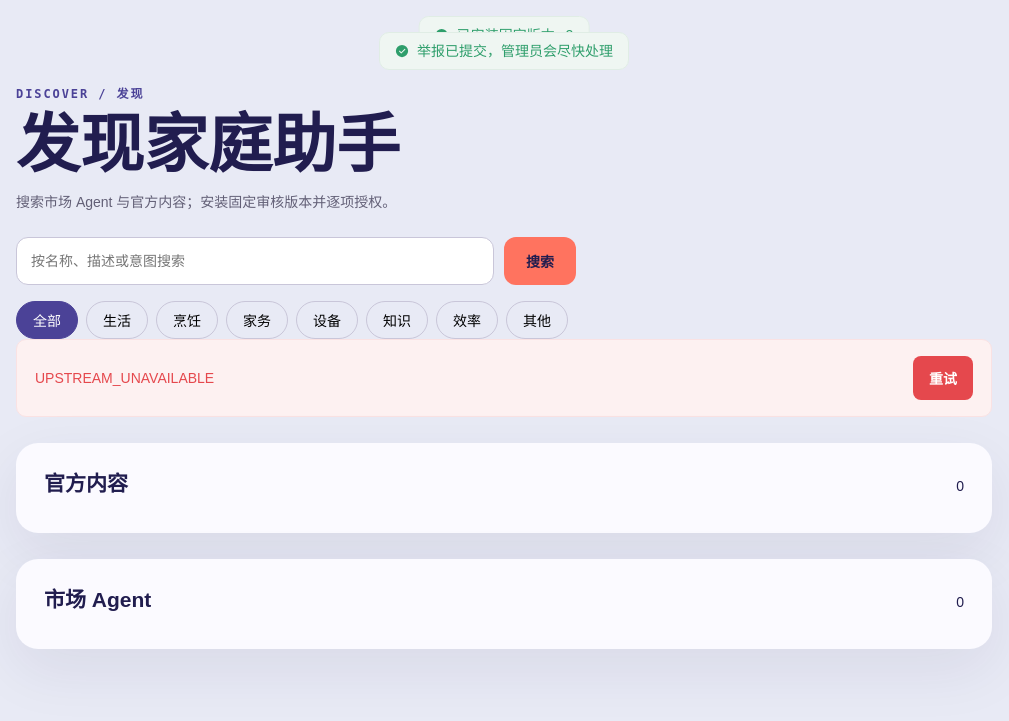
Test: Discover 市场发现页 › 列表接口失败时显示可重试的错误块，而不是「没有匹配的助手」
Expected: the message "UPSTREAM_UNAVAILABLE 重试" is shown, [16,339,992,417]
Expected: the message with test id "page-error" shows "UPSTREAM_UNAVAILABLE", [35,370,214,386]
Click the button "重试" at (943, 378), box [913,356,973,400]
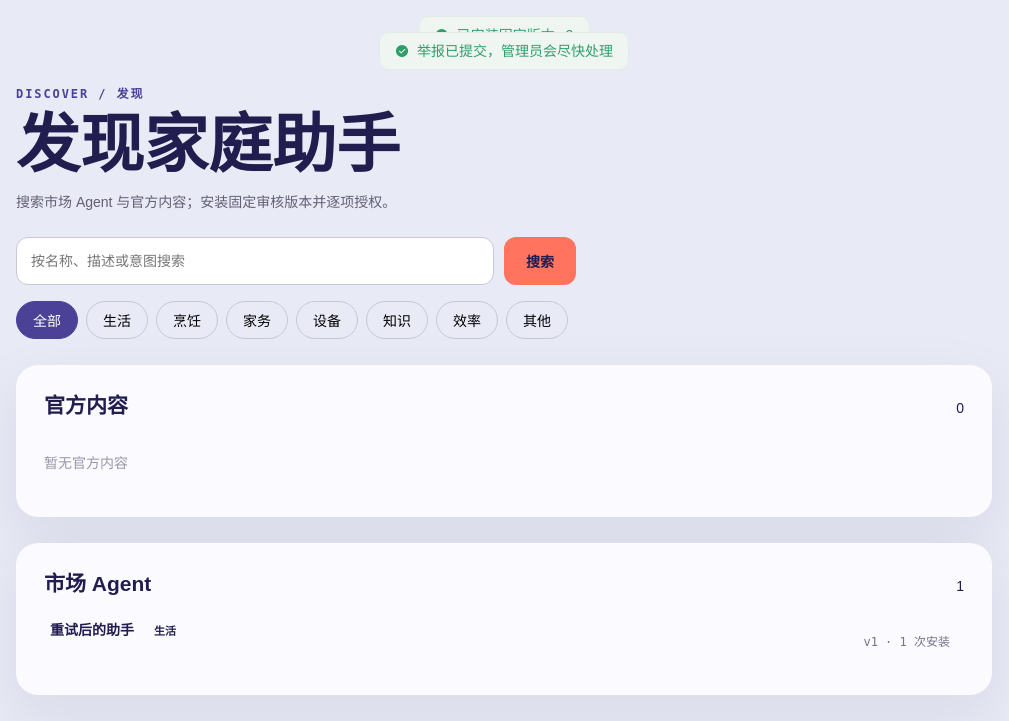
Expected: the text "重试后的助手" is shown, [50,622,134,638]
